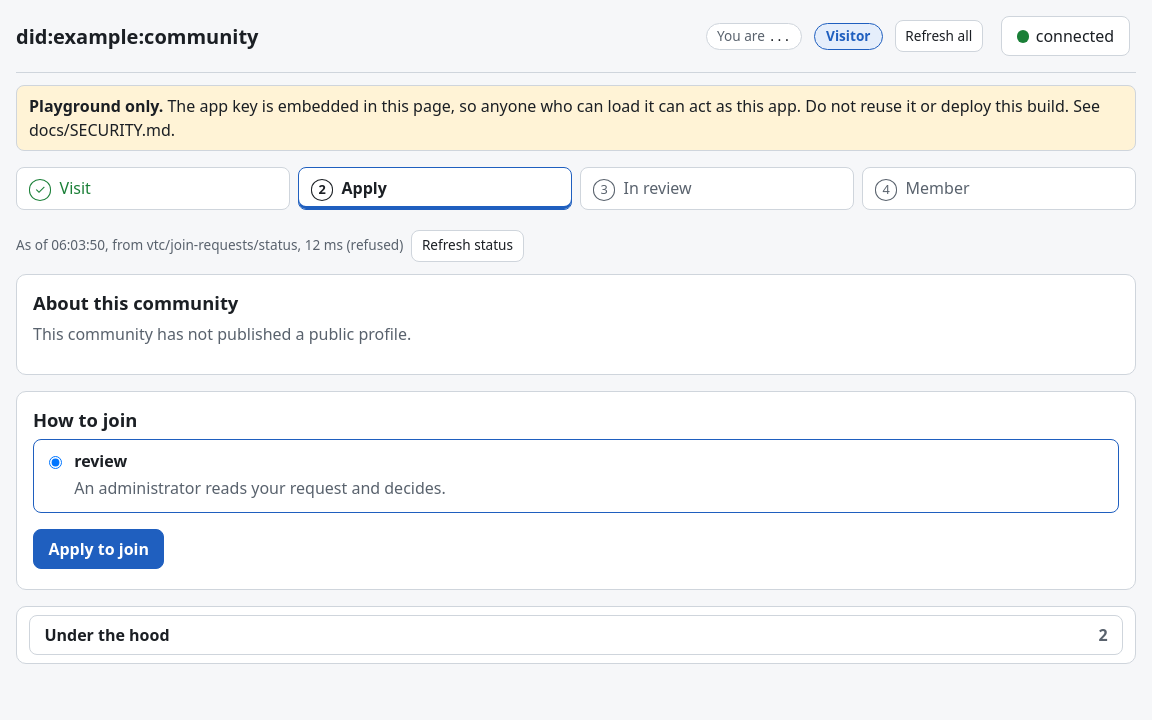
Scenario: visitor › shows how to join, the journey at Apply, and previews the request before signing it
Expected: the heading "How to join" is shown, [33,407,138,432]
Step 1. Click the button "Apply to join" → {"x": 99, "y": 549}, box [33,528,164,569]
(page scrolled)
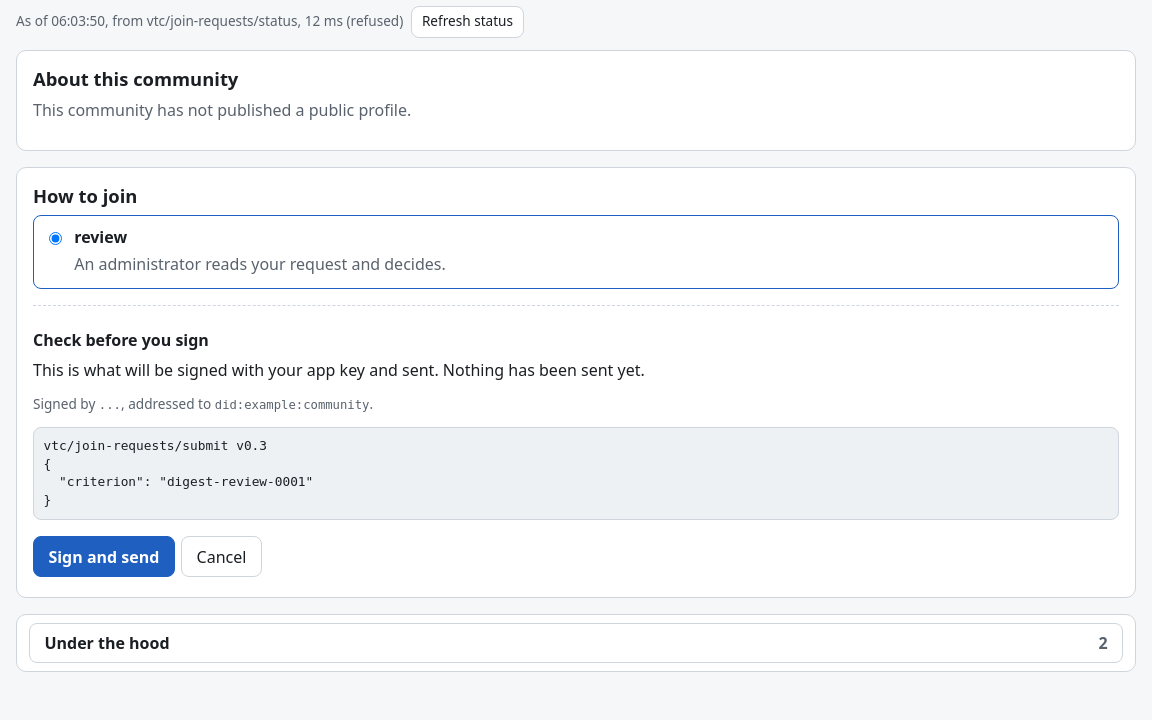
Expected: the element named "Request preview" is shown, [33,304,1119,581]
